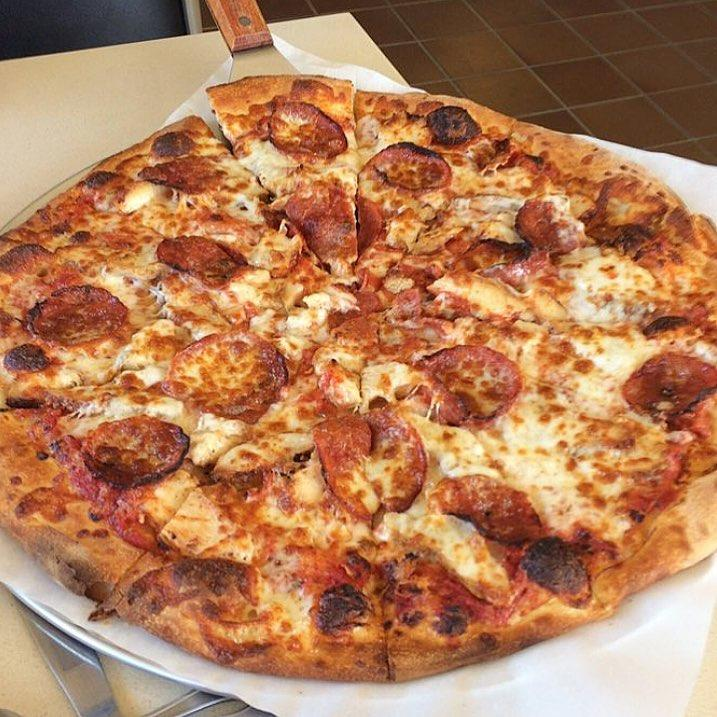Pepperoni: (313, 411, 420, 508), (168, 333, 289, 413), (417, 344, 524, 423), (438, 477, 547, 546), (284, 188, 388, 260), (82, 420, 191, 484), (624, 351, 717, 420), (29, 288, 128, 345), (269, 103, 347, 156), (376, 144, 453, 193), (517, 193, 579, 252), (159, 236, 239, 280), (141, 156, 226, 193)
Pizza: (0, 75, 717, 685)
